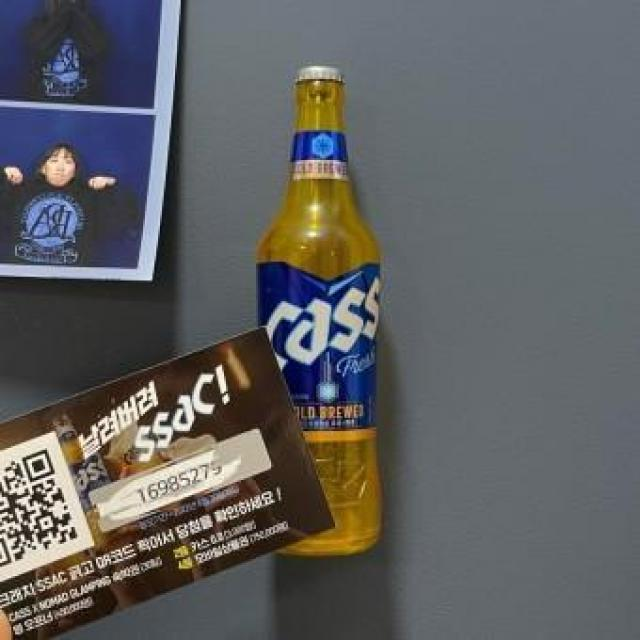beer-bottle: (250, 54, 398, 574)
